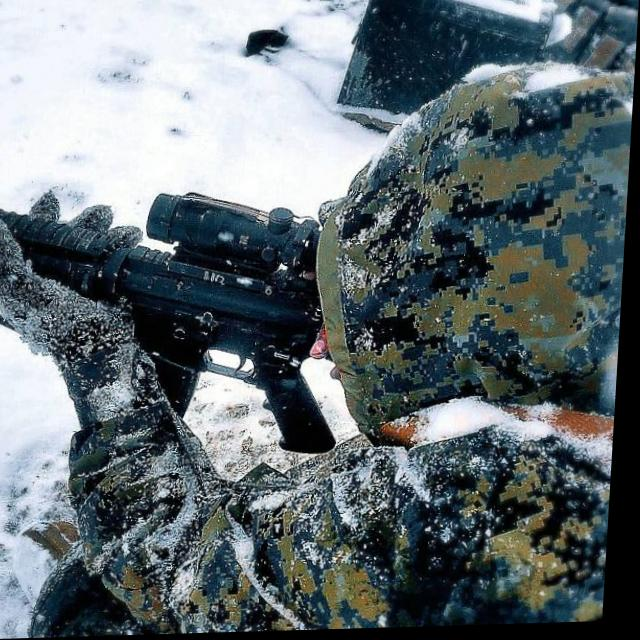other: (177, 86, 635, 634)
